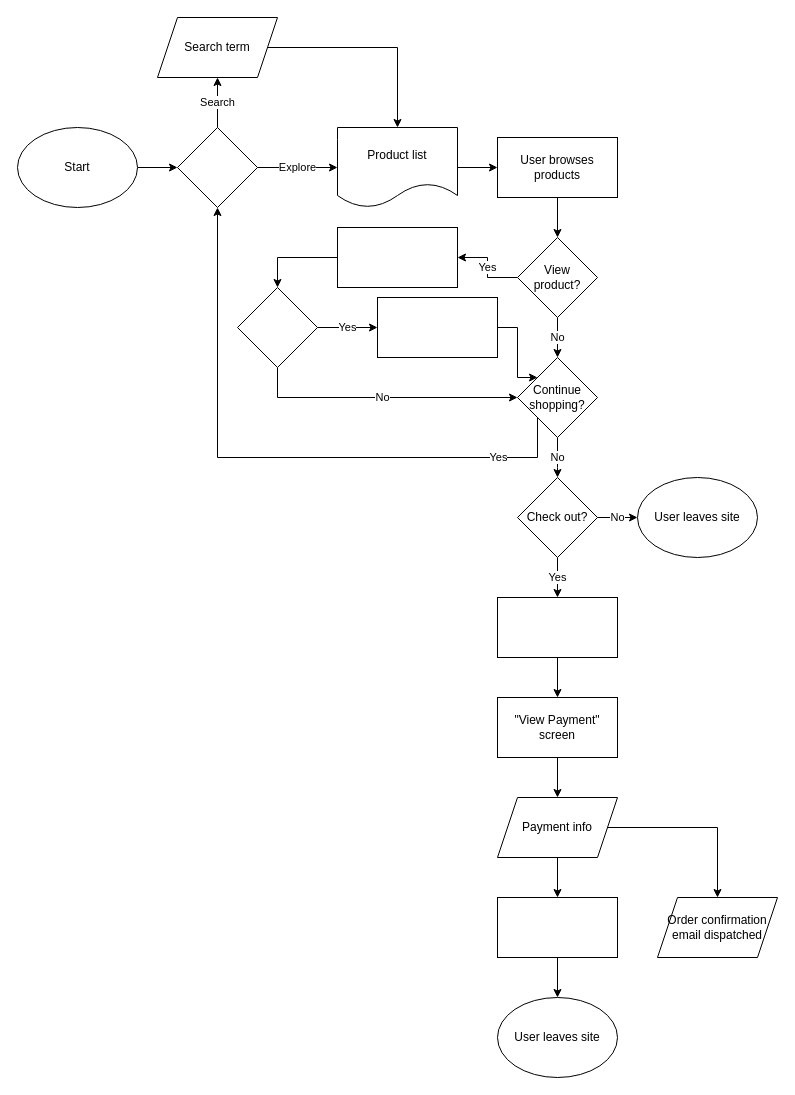
The diagram is 795 pixels wide and 1095 high, and some of its shapes have lost their labels. Each missing label, with the centre of its shape:
"View Cart" screen: [557,627]
Add to cart?: [277,327]
Confirmation of addition to cart: [437,327]
Order confirmation screen: [557,927]
Product page: [397,257]
Search or explore: [217,167]
